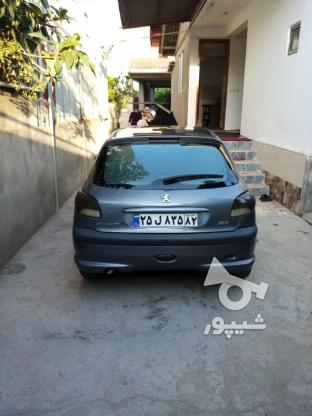car: (128, 213, 198, 227)
